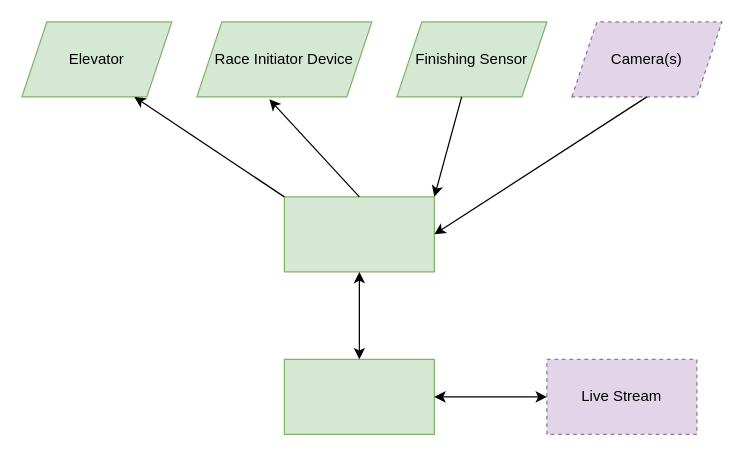
This 744x456 diagram has some shape labels left out. The centre of each missing label's shape, as x and y in pixels:
"Central Controller" belongs at (358,234).
"Monitoring and Streaming Application" belongs at (358,396).
